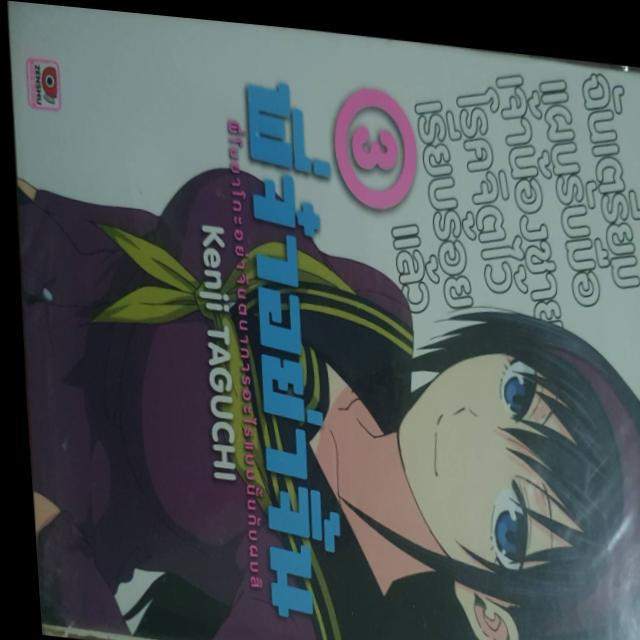Zenshu: (0, 1, 640, 640)
